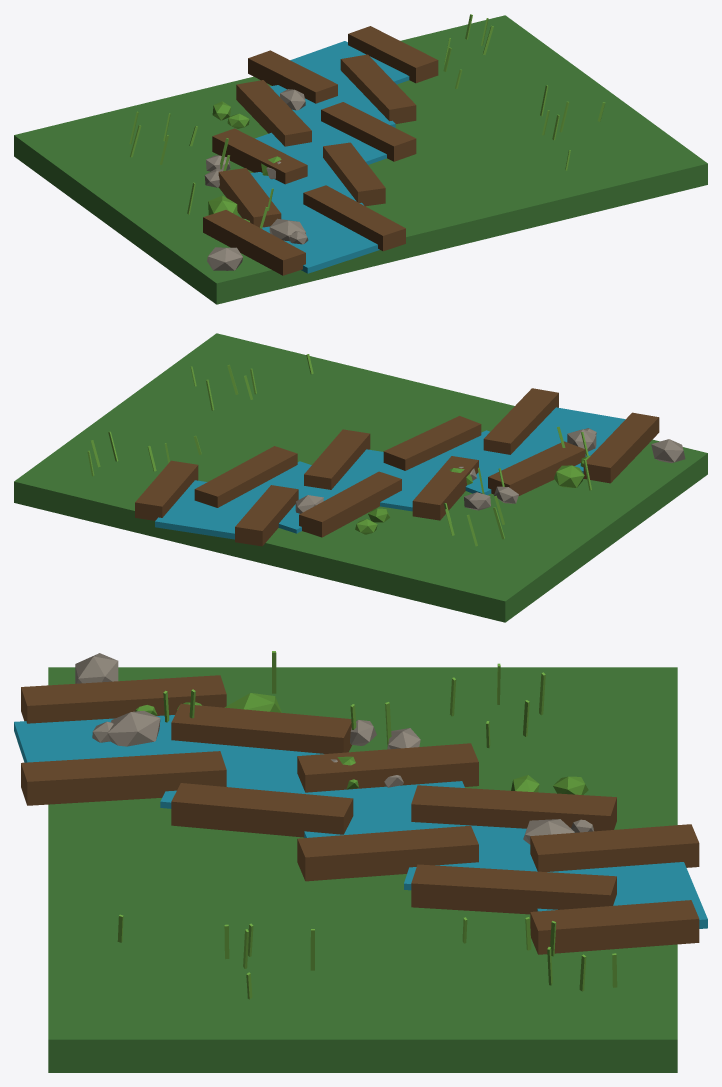
Rendered from small_stream.glb.
The picture shows the model from 3 angles, top to bottom: view 1: azimuth 30°, elevation 25°; view 2: azimuth 150°, elevation 25°; view 3: azimuth 270°, elevation 25°; orthographic projection. The views are drawn at different scales.
Visible parts, largest first — view 1: TerrainBase, StreamWater, StreamBank, StreamBank.001, StreamBank.005, StreamBank.006, StreamBank.007, StreamBank.009, StreamBank.004, StreamBank.008, StreamBank.003, StreamWater.002 (+6 smaller); view 2: TerrainBase, StreamBank.006, StreamWater.004, StreamBank.007, StreamBank, StreamBank.003, StreamBank.001, StreamWater, StreamBank.002, StreamBank.004, StreamWater.002, StreamWater.001 (+6 smaller); view 3: TerrainBase, StreamBank.001, StreamBank.007, StreamBank.003, StreamBank.005, StreamBank.009, StreamBank.006, StreamBank, StreamBank.002, StreamBank.004, StreamBank.008, StreamWater (+8 smaller).
Part boxes in pixels (x1,y1,x2,y2): TerrainBase: (14, 15, 707, 304); StreamWater: (245, 200, 379, 273); StreamBank: (203, 210, 305, 275); StreamBank.001: (303, 185, 405, 251); StreamBank.005: (321, 102, 416, 161); StreamBank.006: (236, 80, 311, 146); StreamBank.007: (340, 54, 416, 123); StreamBank.009: (348, 26, 438, 83); StreamBank.004: (212, 128, 307, 184); StreamBank.008: (248, 50, 337, 103); StreamBank.003: (323, 142, 385, 206); StreamWater.002: (255, 116, 386, 177); TerrainBase: (14, 333, 707, 622); StreamBank.006: (299, 471, 401, 537); StreamWater.004: (155, 480, 264, 539); StreamBank.007: (194, 446, 297, 507); StreamBank: (583, 412, 659, 483); StreamBank.003: (383, 416, 481, 470); StreamBank.001: (483, 388, 558, 454); StreamWater: (510, 407, 625, 473); StreamBank.002: (488, 441, 585, 495); StreamBank.004: (412, 456, 478, 520); StreamWater.002: (325, 449, 438, 511); StreamWater.001: (414, 430, 541, 495); TerrainBase: (48, 667, 677, 1072); StreamBank.001: (21, 751, 226, 805); StreamBank.007: (411, 864, 616, 914); StreamBank.003: (171, 783, 353, 837); StreamBank.005: (297, 825, 478, 881); StreamBank.009: (530, 900, 699, 954); StreamBank.006: (411, 785, 616, 831); StreamBank: (21, 675, 226, 723); StreamBank.002: (171, 703, 351, 753); StreamBank.004: (297, 743, 478, 792); StreamBank.008: (530, 824, 699, 871); StreamWater: (14, 715, 233, 770).
Bounding box in the file's own units: 14 × 1.56 × 11.02.
